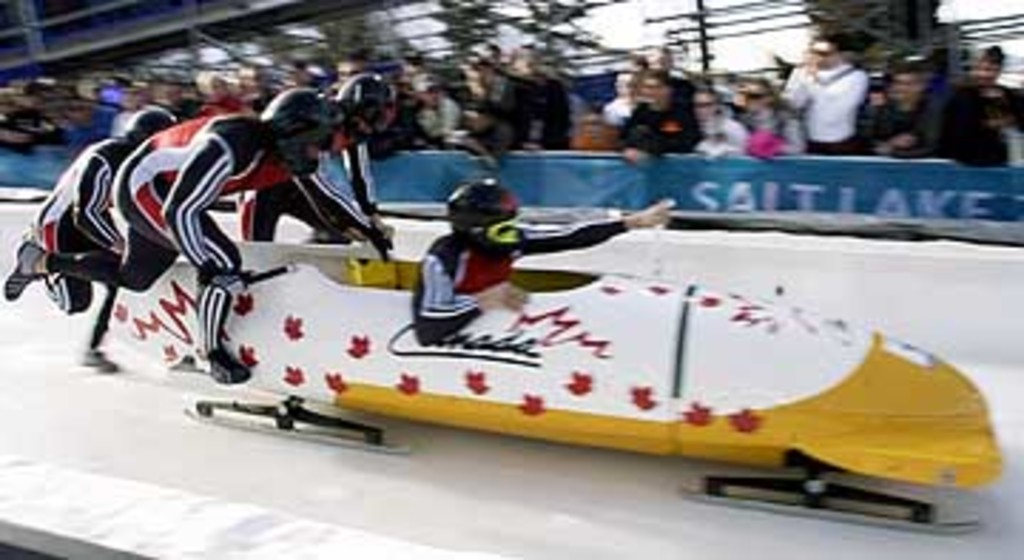Person: (0, 34, 1023, 373)
